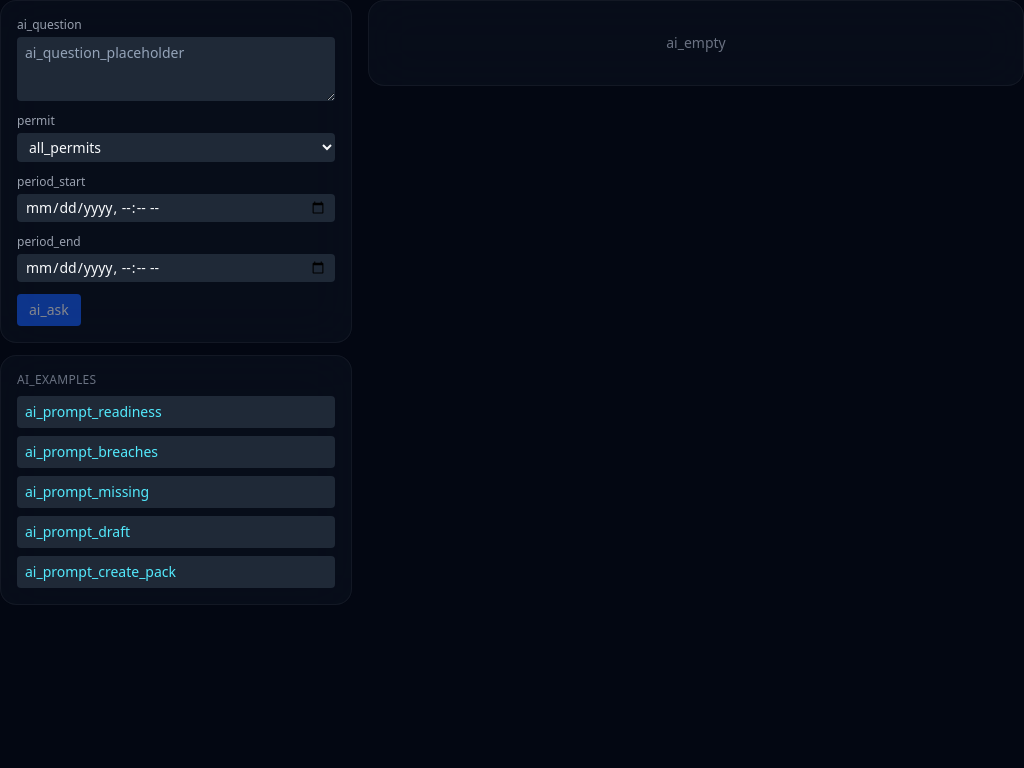
Test: Compliance AssistantTab › hides Create-pack from a viewer-role user
The image size is (1024, 768).
Click the button "ai_prompt_create_pack" at (176, 572), box [17, 556, 335, 588]
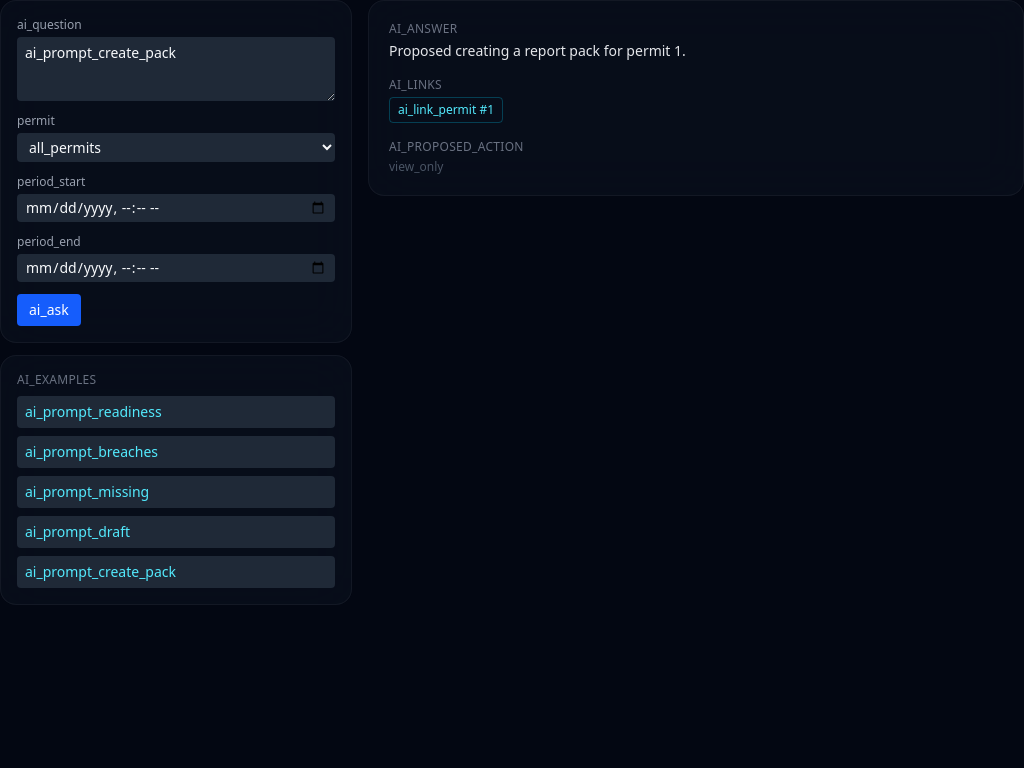
Now the text "Proposed creating a report pack for permit 1." is shown, box [389, 41, 686, 60]
Now the text "view_only" is shown, box [389, 158, 443, 175]
